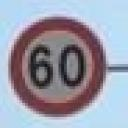speed_limit_60: (6, 14, 111, 121)
